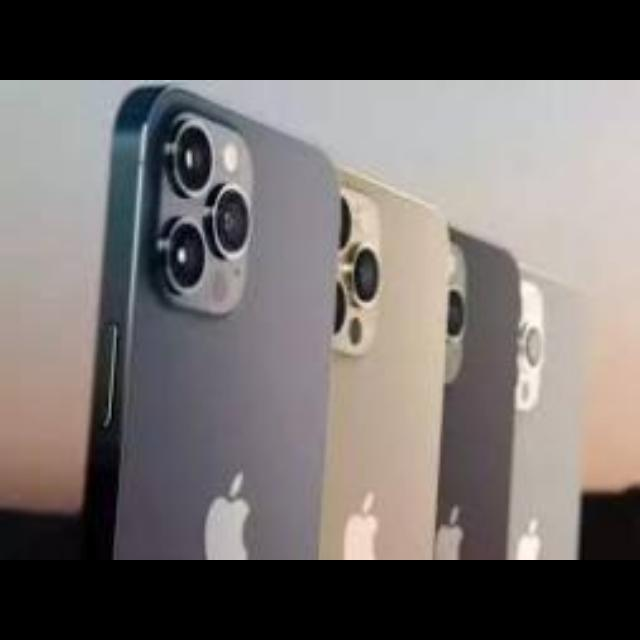phone: (75, 80, 332, 558)
